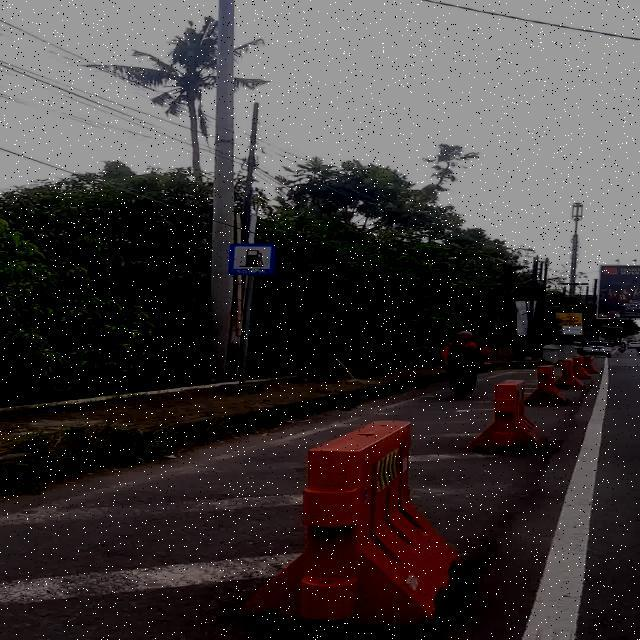Pom Bensin: (228, 243, 276, 275)
